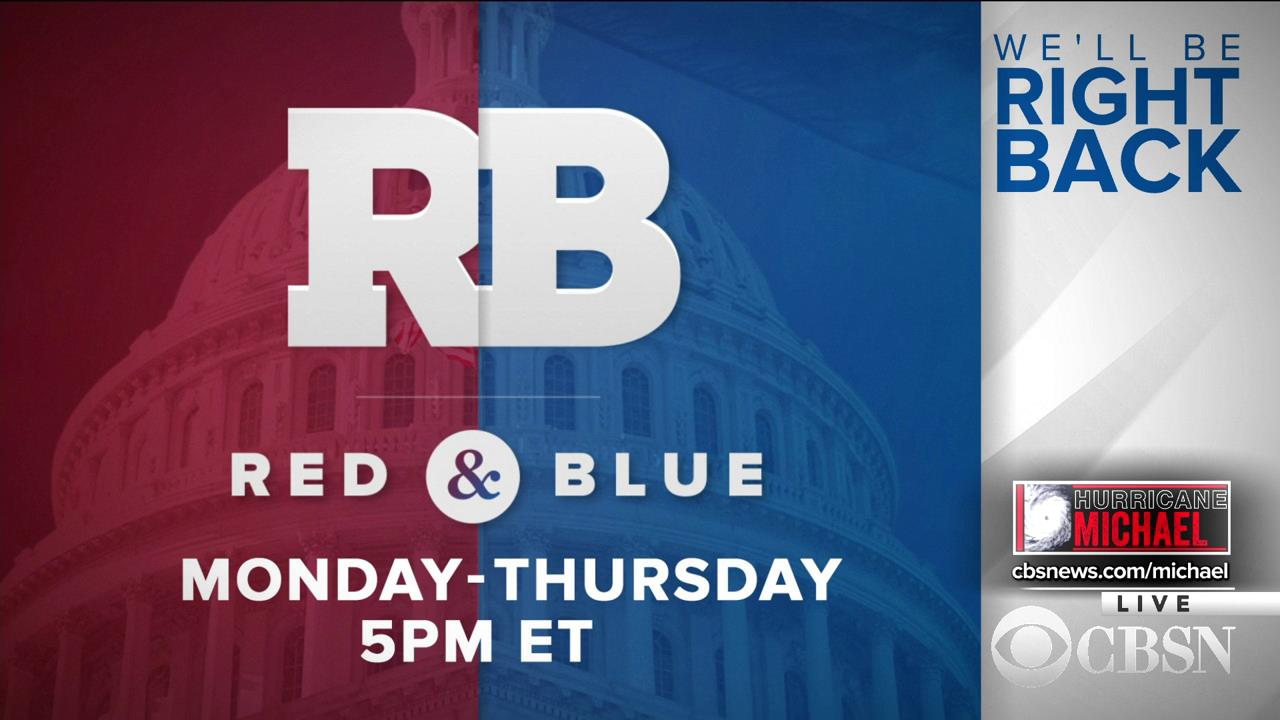5PM ET: (353, 612, 597, 668)
BACK: (992, 126, 1256, 198)
CBSN: (1077, 624, 1235, 674)
HURRICANE: (1072, 483, 1229, 510)
LIVE: (1111, 591, 1195, 614)
MICHAEL: (1070, 509, 1212, 546)
MONDAY-THURSDAY: (177, 551, 845, 605)
RB: (281, 102, 689, 353)
RED & BLUE: (224, 447, 769, 501)
RIGHT: (995, 64, 1245, 125)
WE'LL BE: (988, 25, 1247, 62)
cbsnews.com/michael: (1010, 558, 1232, 583)
